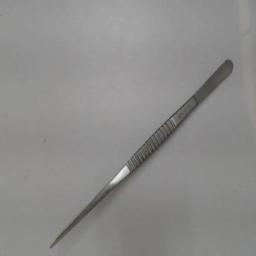DeBakey Dissector: (42, 46, 242, 254)
